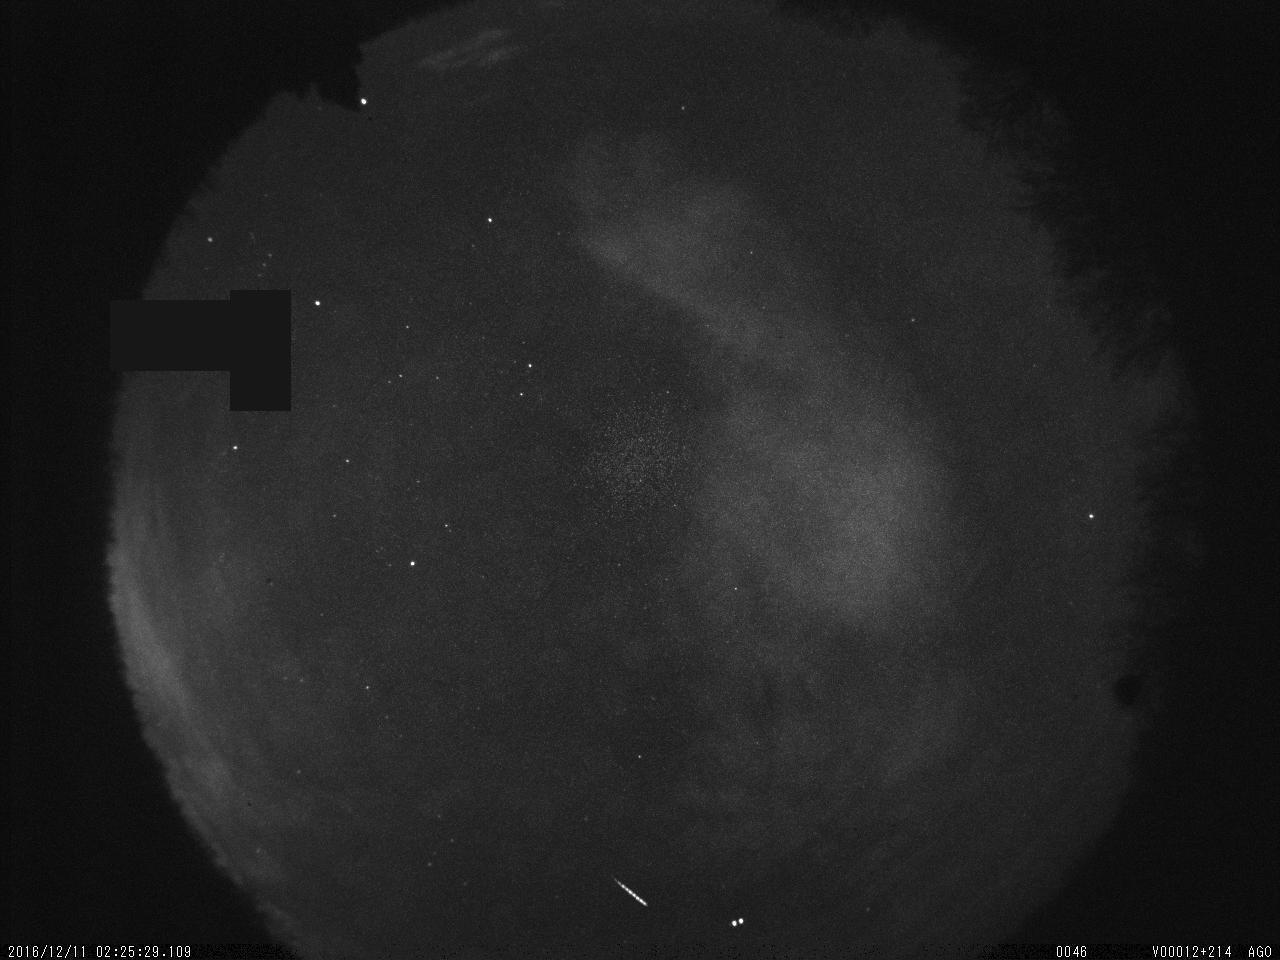Meteor: (612, 873, 650, 905)
